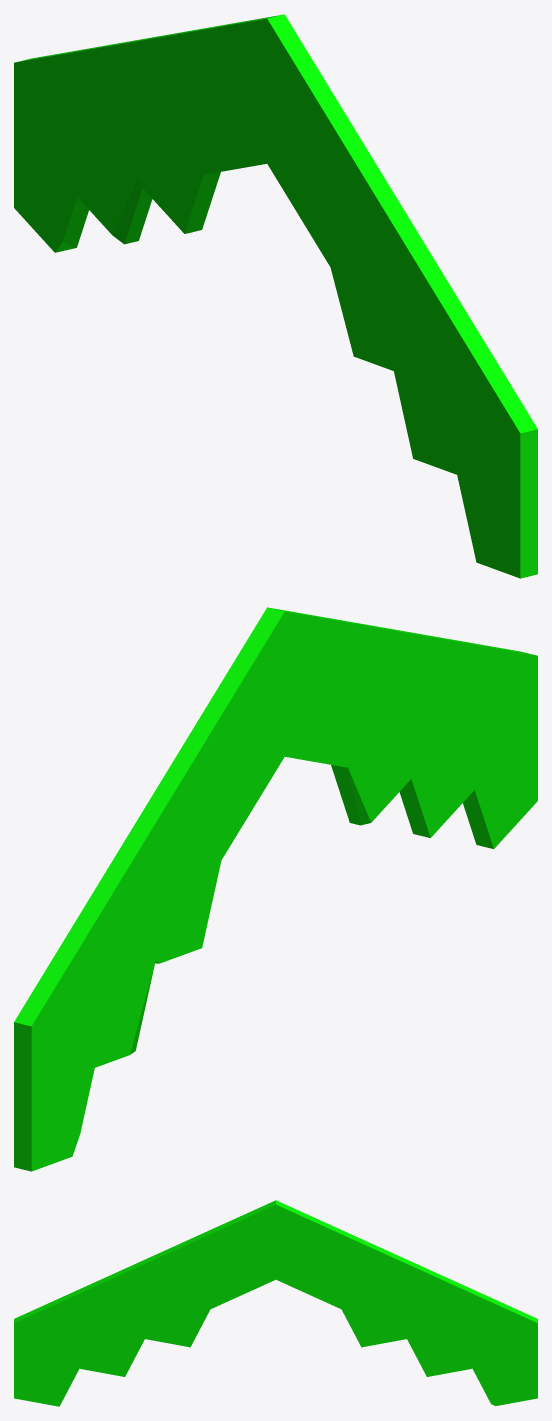
File: SM_Roof_Moderate_Center_Decor_Fantasy.fbx
The picture shows the model from 3 angles, top to bottom: view 1: azimuth 30°, elevation 25°; view 2: azimuth 150°, elevation 25°; view 3: azimuth 270°, elevation 25°; orthographic projection. The views are drawn at different scales.
Visible parts, largest first — view 1: roof-moderate-center-decor-fantasy; view 2: roof-moderate-center-decor-fantasy; view 3: roof-moderate-center-decor-fantasy.
Part boxes in pixels (x1,y1,x2,y2): roof-moderate-center-decor-fantasy: [14, 14, 537, 578]; roof-moderate-center-decor-fantasy: [14, 607, 537, 1171]; roof-moderate-center-decor-fantasy: [14, 1200, 537, 1406].
Size of the model in its own units: 0.04 by 0.8514 by 2.
